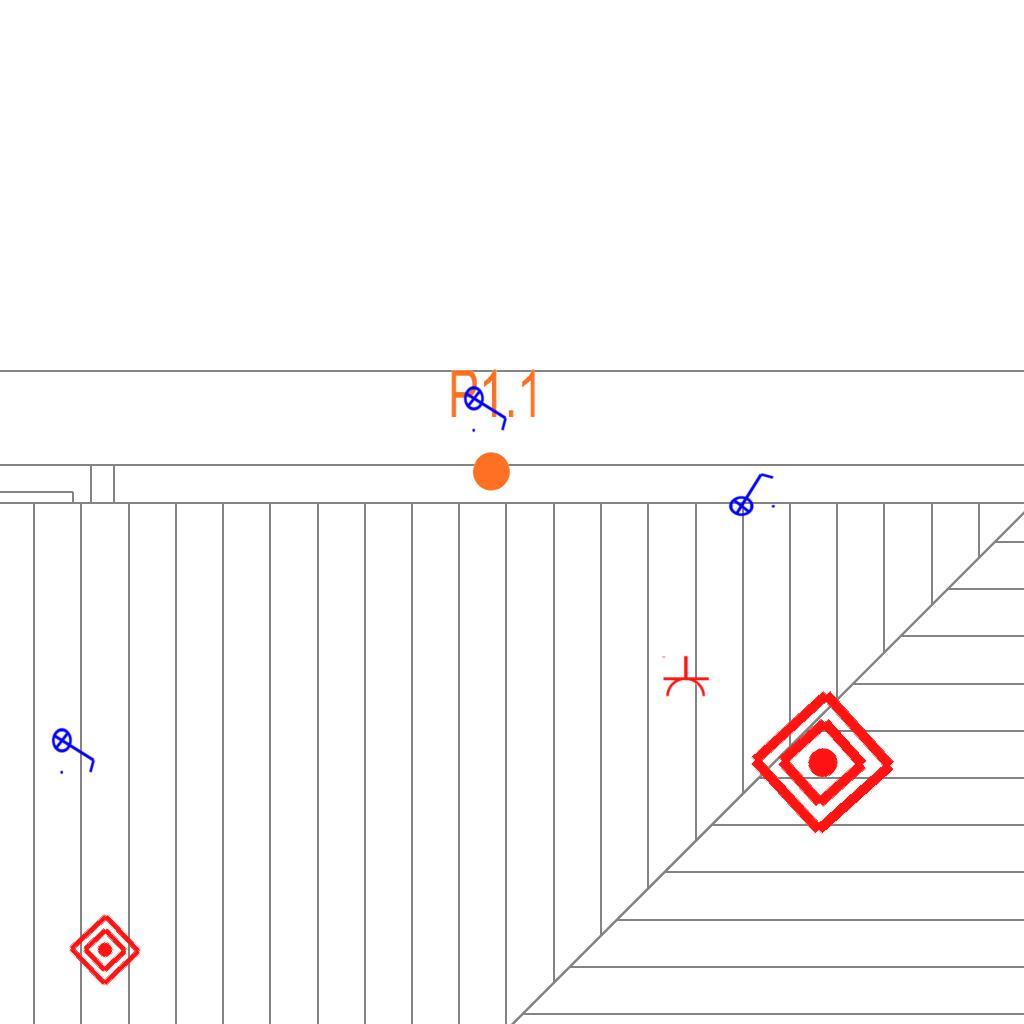Ausschalter_beleuchtet: (722, 469, 778, 517), (51, 721, 99, 777), (463, 379, 511, 435)
Downlight_LED_Einbauleuchten_Flur: (448, 366, 541, 494)
NAM-Nichtautomatischer_Melder: (742, 682, 903, 843), (65, 910, 145, 990)
Schukosteckdose_einfach: (660, 655, 710, 698)
